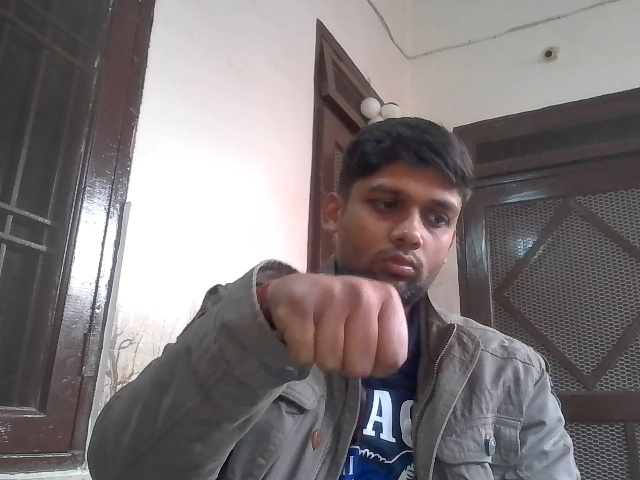Yes: (263, 260, 437, 380)
